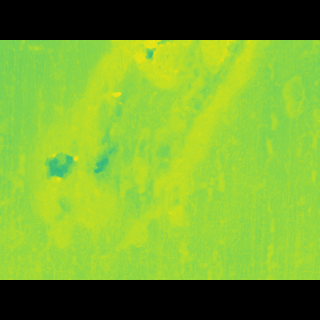Loch: (0, 68, 258, 229)
